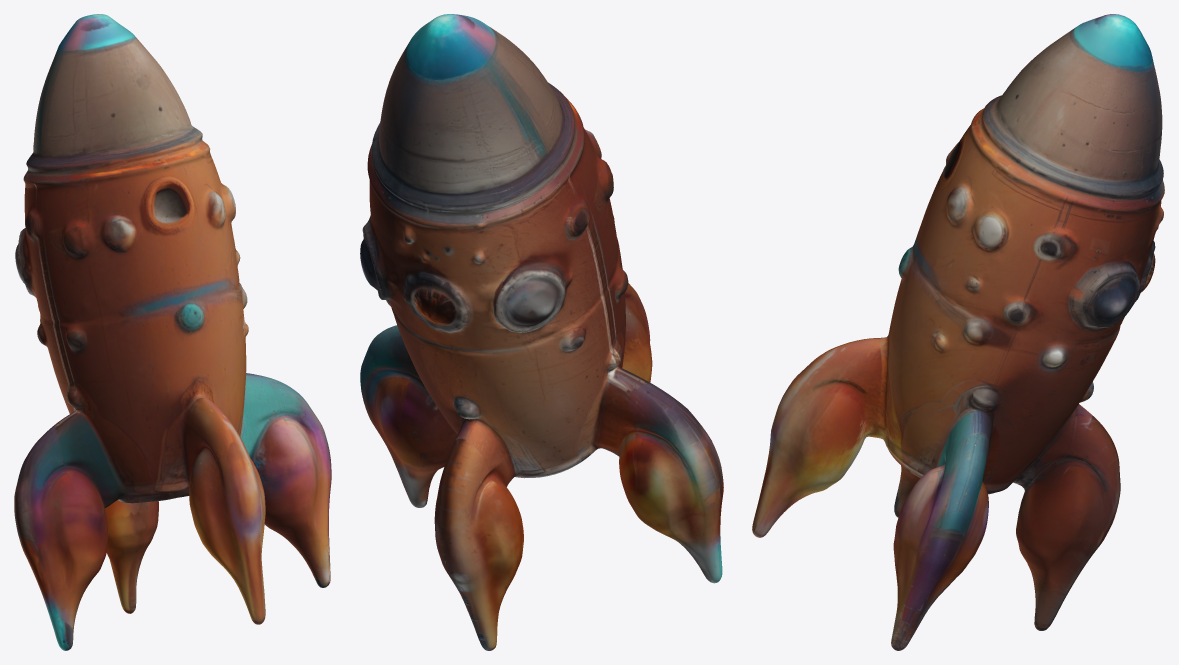
Rendered from rocket.glb.
The picture shows the model from 3 angles, left to right: view 1: azimuth 30°, elevation 25°; view 2: azimuth 150°, elevation 25°; view 3: azimuth 270°, elevation 25°; orthographic projection. The views are drawn at different scales.
Visible parts, largest first — view 1: Mesh_0; view 2: Mesh_0; view 3: Mesh_0.
Boxes of the visible parts, <box> form: Mesh_0: <box>14,14,331,650</box>; Mesh_0: <box>360,14,723,650</box>; Mesh_0: <box>752,14,1164,650</box>.
Bounding box in the file's own units: 4.37 × 7.78 × 4.74.
Materials: 1 (1 with a texture image).
